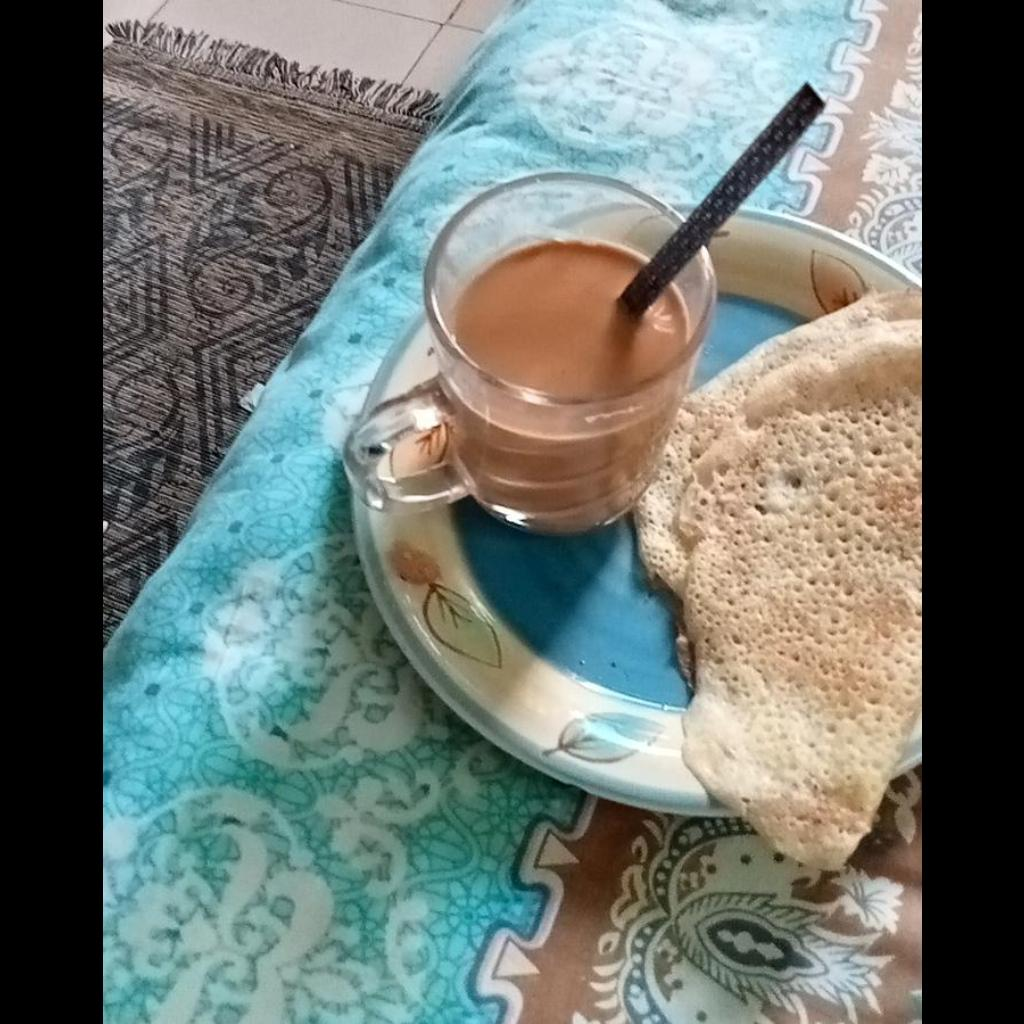cha: (454, 241, 686, 399)
ruti: (633, 289, 920, 872)
